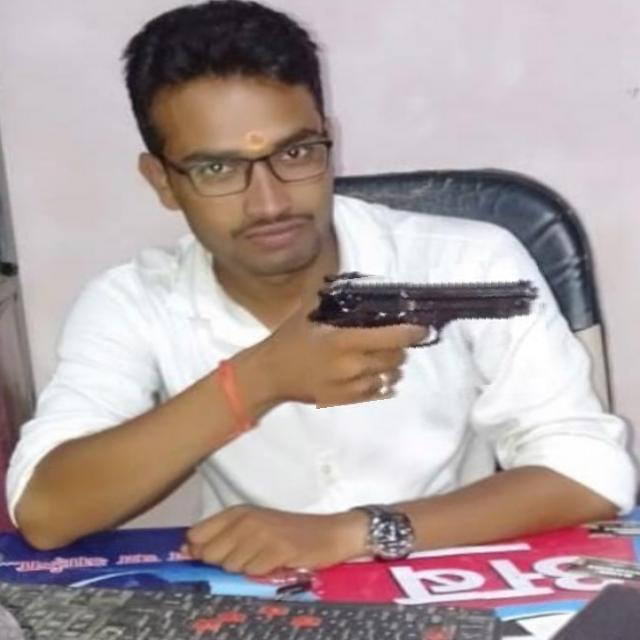Handgun: (303, 261, 549, 401)
